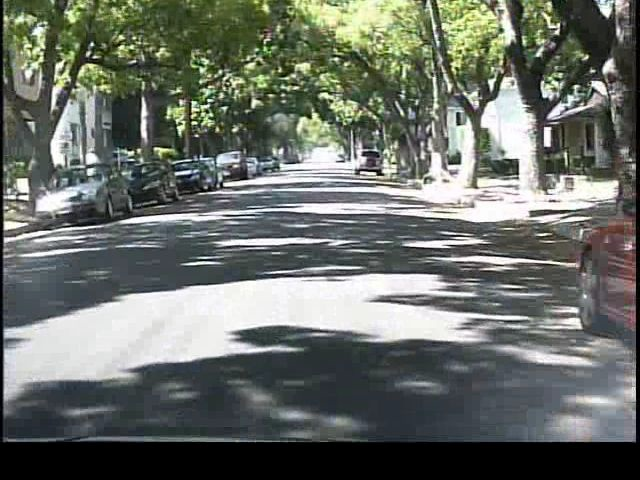person: (80, 144, 105, 196)
